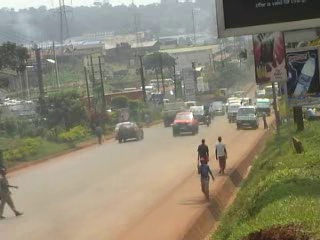Car: (116, 121, 146, 145), (185, 102, 205, 126), (111, 120, 131, 139), (209, 102, 227, 116)
Motorcycle: (202, 106, 214, 125)
